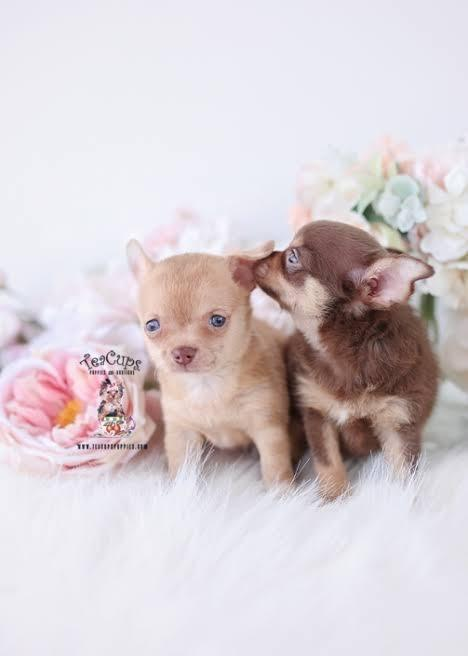puppy-dog: (256, 218, 441, 503), (128, 236, 296, 495)
